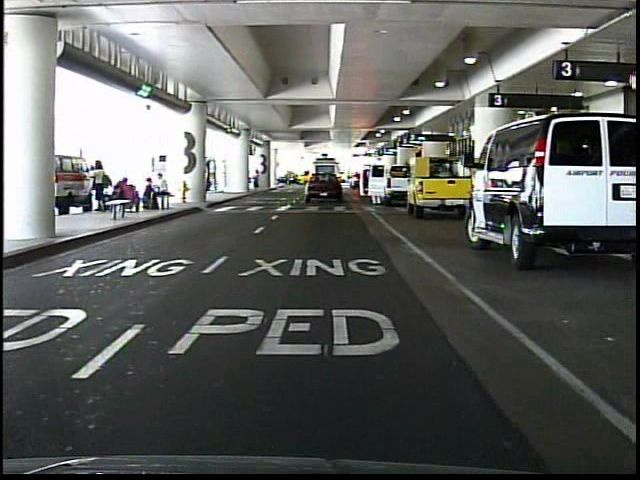person: (251, 167, 263, 192)
